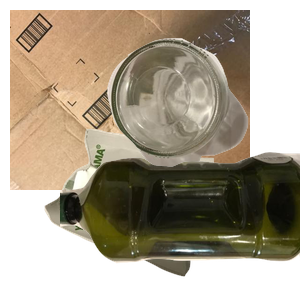cardboard: (10, 10, 250, 190)
glass: (105, 36, 300, 201)
plastic: (60, 149, 300, 300)
trash: (42, 126, 249, 300)
